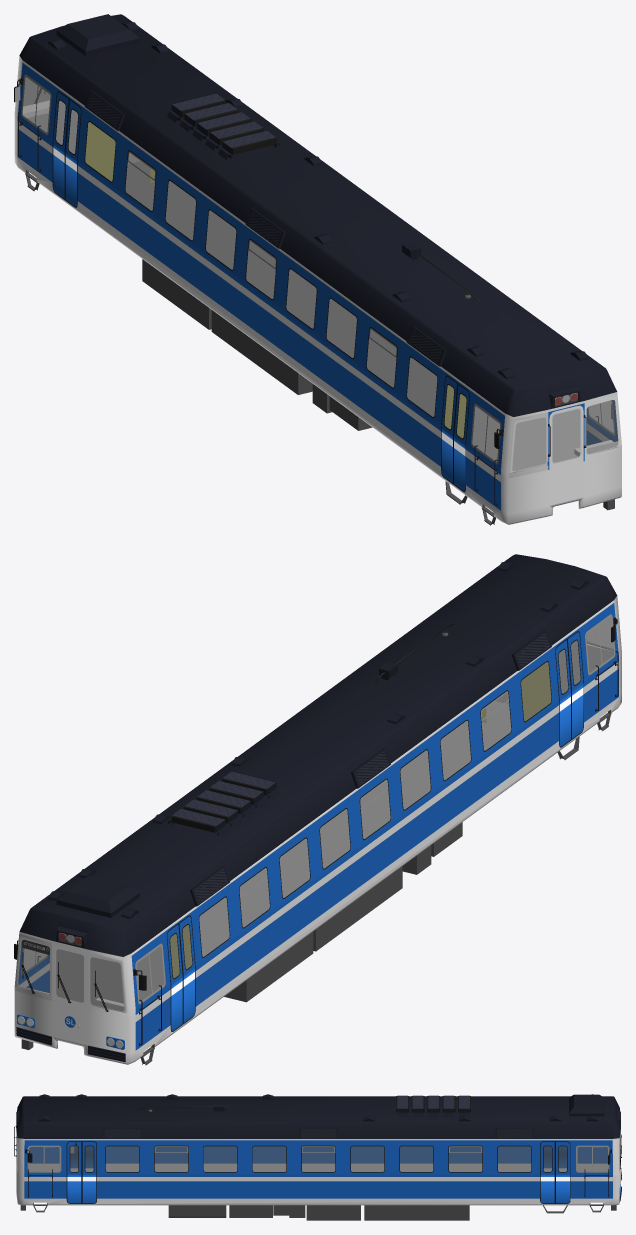
The model's file is wagon.glb.
3 renders of one model, top to bottom at view 1: azimuth 30°, elevation 25°; view 2: azimuth 150°, elevation 25°; view 3: azimuth 270°, elevation 25°, orthographic. The views are drawn at different scales.
Parts seen in each view (by area): view 1: _C-Frame X10p (Loose Mesh), C-Interiour#A, C-Cab interior, C-Gable door, C-AC unit, C-Door#A.003, C-Door#A.002, C-Door#A, C-Door#A.001, C-Window#A, C-Window#B.001, C-Window#A.005 (+19 smaller); view 2: _C-Frame X10p (Loose Mesh), C-Interiour#A, C-Cab interior.001, C-AC unit, C-Door#A.002, C-Door#A.003, C-Door#A, C-Window#A.005, C-Window#B.001, C-Door#A.001, C-Window#A, C-Window#A.002 (+19 smaller); view 3: _C-Frame X10p (Loose Mesh), C-Interiour#A, C-Door#A.007, C-Door#A.006, C-Door#A.004, C-Window#A.006, C-Window#A.007, C-Window#A.008, C-Window#A.009, C-Window#A.010, C-Window#A.011, C-Window#B.003 (+26 smaller).
Boxes of the visible parts, x1,y1,x2,y2 form: _C-Frame X10p (Loose Mesh): (14, 14, 621, 524); C-Interiour#A: (85, 122, 466, 438); C-Cab interior: (472, 406, 618, 471); C-Gable door: (549, 405, 583, 503); C-AC unit: (56, 14, 139, 56); C-Door#A.003: (441, 375, 457, 484); C-Door#A.002: (453, 383, 469, 491); C-Door#A: (65, 99, 81, 207); C-Door#A.001: (52, 91, 69, 199); C-Window#A: (84, 120, 116, 183); C-Window#B.001: (245, 237, 277, 301); C-Window#A.005: (406, 355, 438, 418); _C-Frame X10p (Loose Mesh): (14, 554, 621, 1064); C-Interiour#A: (170, 662, 551, 978); C-Cab interior.001: (20, 946, 164, 1011); C-AC unit: (56, 876, 139, 917); C-Door#A.002: (567, 631, 583, 739); C-Door#A.003: (555, 639, 571, 747); C-Door#A: (179, 915, 195, 1024); C-Window#A.005: (520, 659, 552, 723); C-Window#B.001: (359, 777, 391, 840); C-Door#A.001: (166, 923, 182, 1031); C-Window#A: (198, 895, 230, 958); C-Window#A.002: (319, 807, 351, 870); _C-Frame X10p (Loose Mesh): (16, 1096, 620, 1205); C-Interiour#A: (70, 1164, 566, 1171); C-Door#A.007: (540, 1141, 555, 1203); C-Door#A.006: (555, 1141, 570, 1203); C-Door#A.004: (66, 1141, 81, 1203); C-Window#A.006: (497, 1145, 531, 1172); C-Window#A.007: (105, 1145, 139, 1172); C-Window#A.008: (252, 1145, 286, 1172); C-Window#A.009: (350, 1145, 384, 1172); C-Window#A.010: (399, 1145, 433, 1172); C-Window#A.011: (203, 1145, 237, 1172); C-Window#B.003: (154, 1145, 188, 1172).
Bounding box in the file's own units: 2.99 × 3.71 × 19.56.
Materials: 15 (2 with a texture image).
